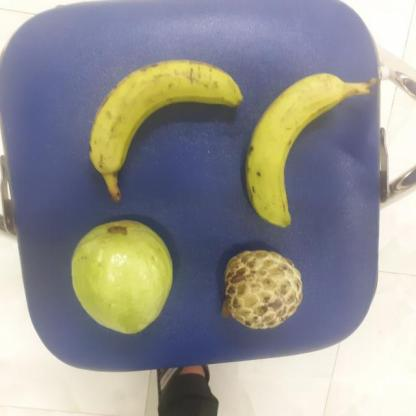annona: (216, 251, 303, 331)
banana: (82, 59, 240, 178), (240, 72, 350, 226)
guava: (67, 220, 172, 334)
